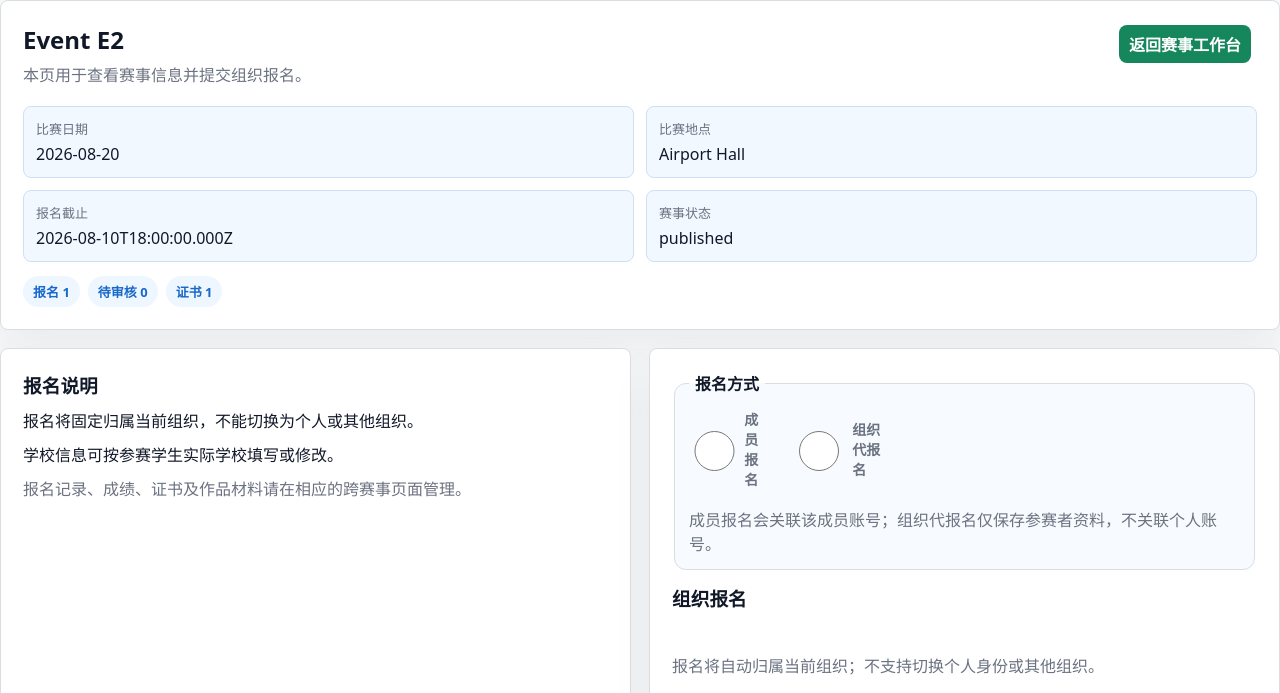
Test: OrganizationEventWorkspacePage › explains the national-standard validation failure and preserves its stable error code
Step 1. Click the radio button labelled "组织代报名" → (819, 450), box top-left (795, 430), bottom-right (843, 470)
(page scrolled)
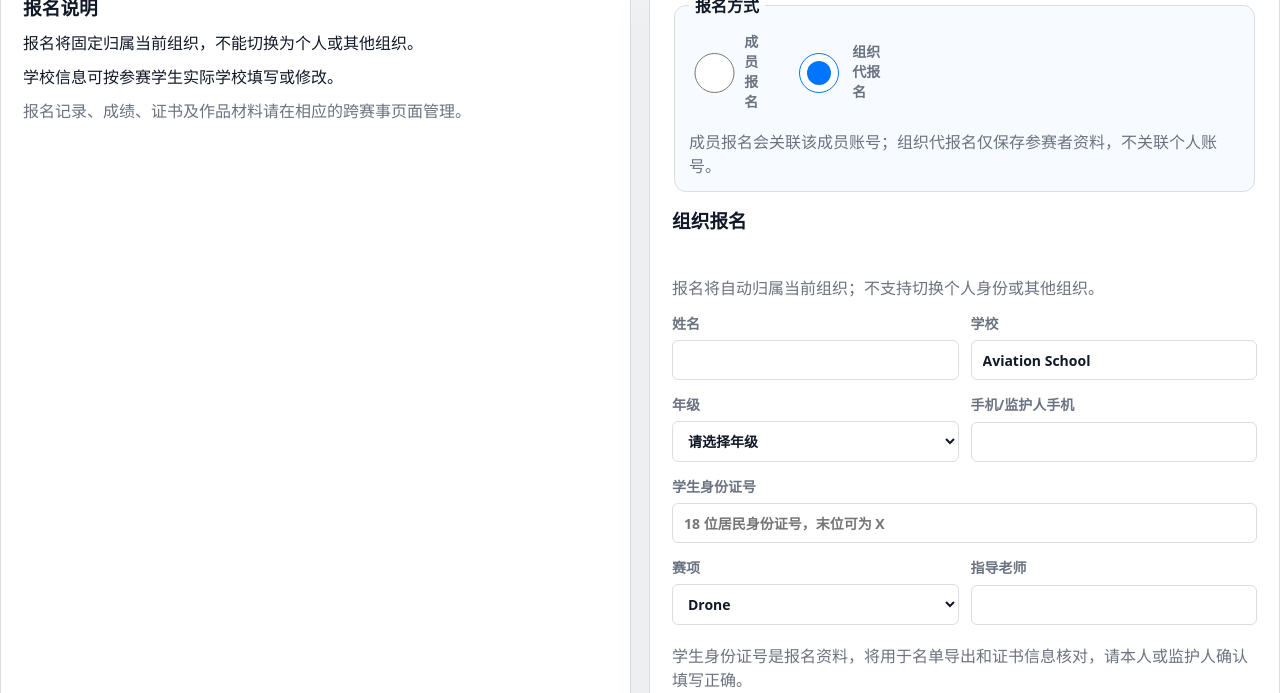
Step 2. Type "Student A" into the field labelled "姓名" → (815, 360), box top-left (672, 340), bottom-right (958, 380)
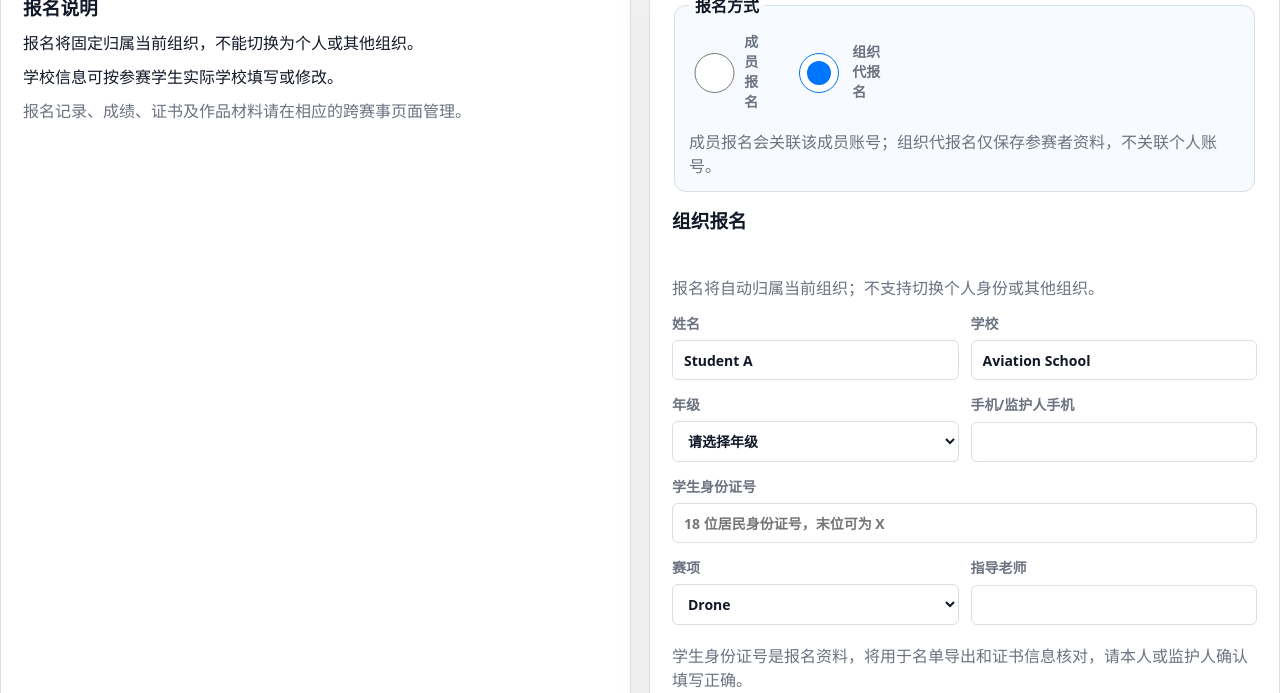
Step 3. Select "Grade 5" in the dropdown labelled "年级" → (815, 442), box top-left (672, 421), bottom-right (958, 462)
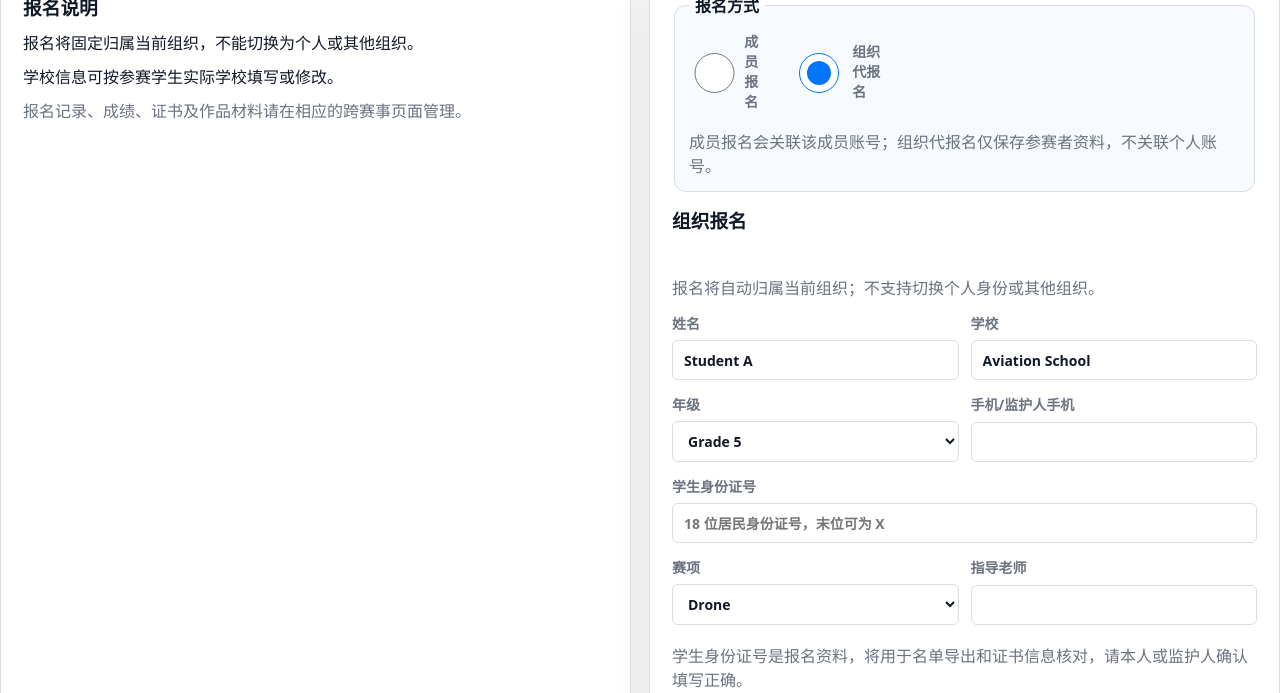
Step 4. Type "13800000000" into the field labelled "手机/监护人手机" → (1114, 442), box top-left (970, 422), bottom-right (1257, 462)
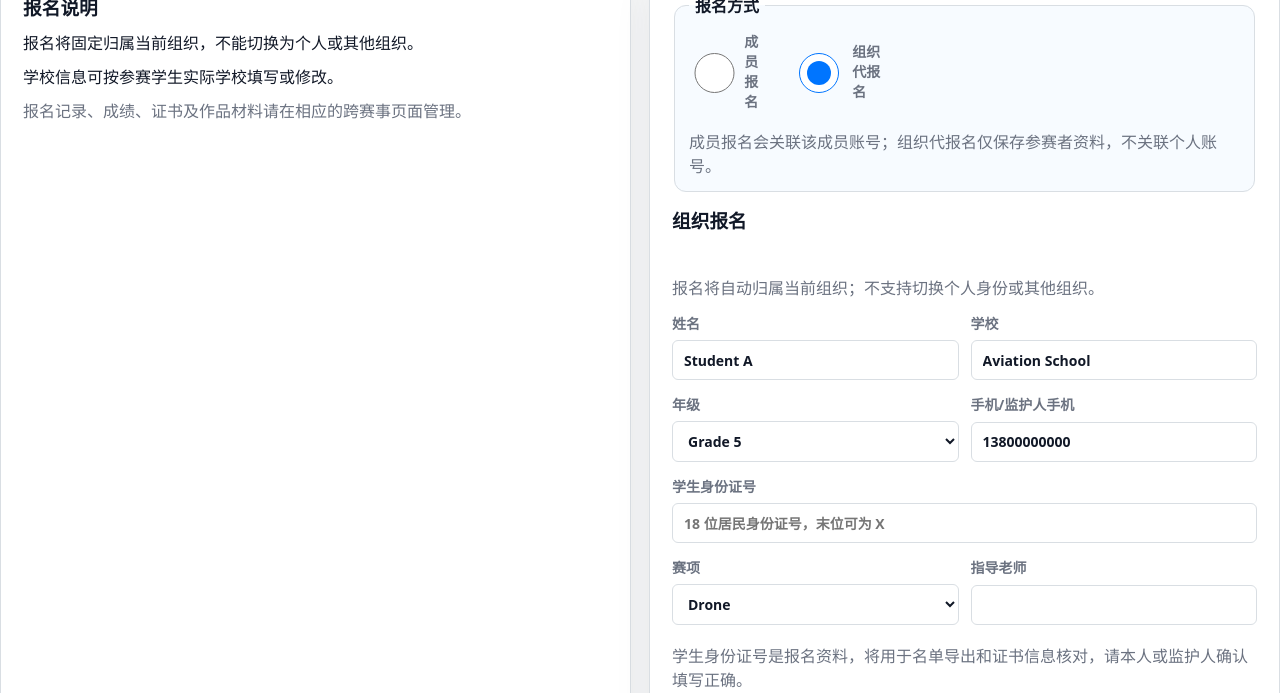
Step 5. Type "330304198811232711" into the field labelled "学生身份证号" → (964, 523), box top-left (672, 503), bottom-right (1257, 543)
(page scrolled)
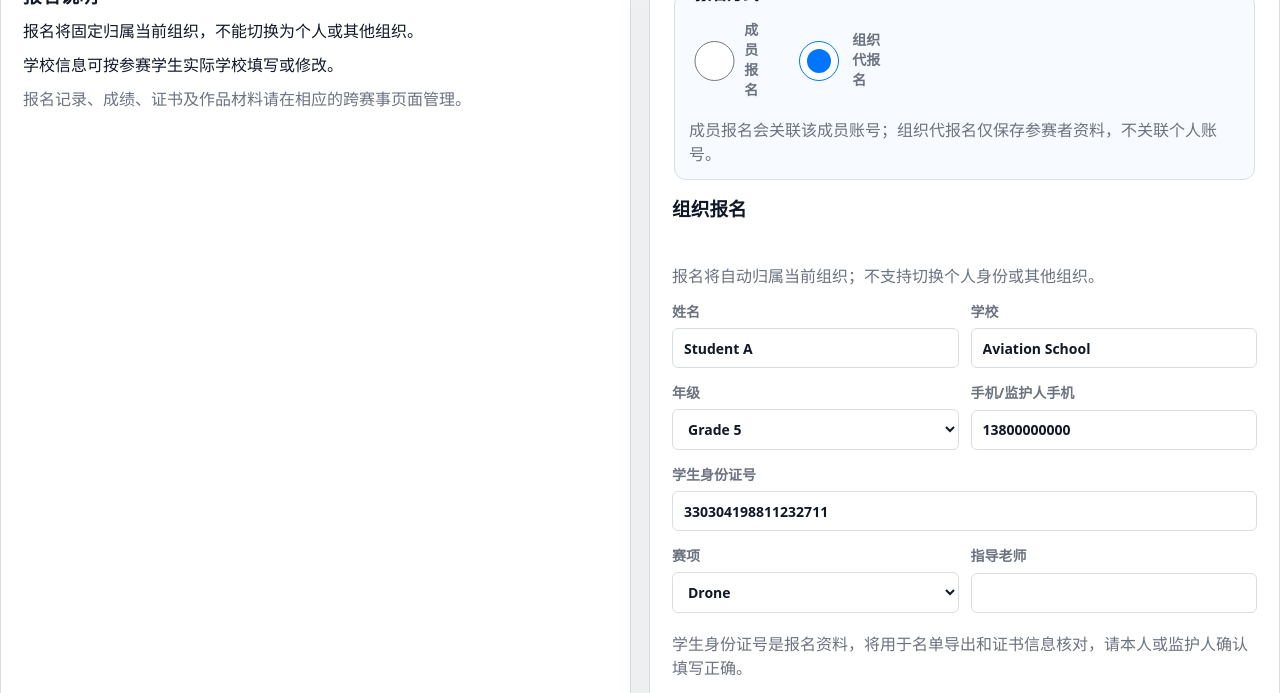
Step 6. Submit the form with test id "organization-registration-form"
(page scrolled)
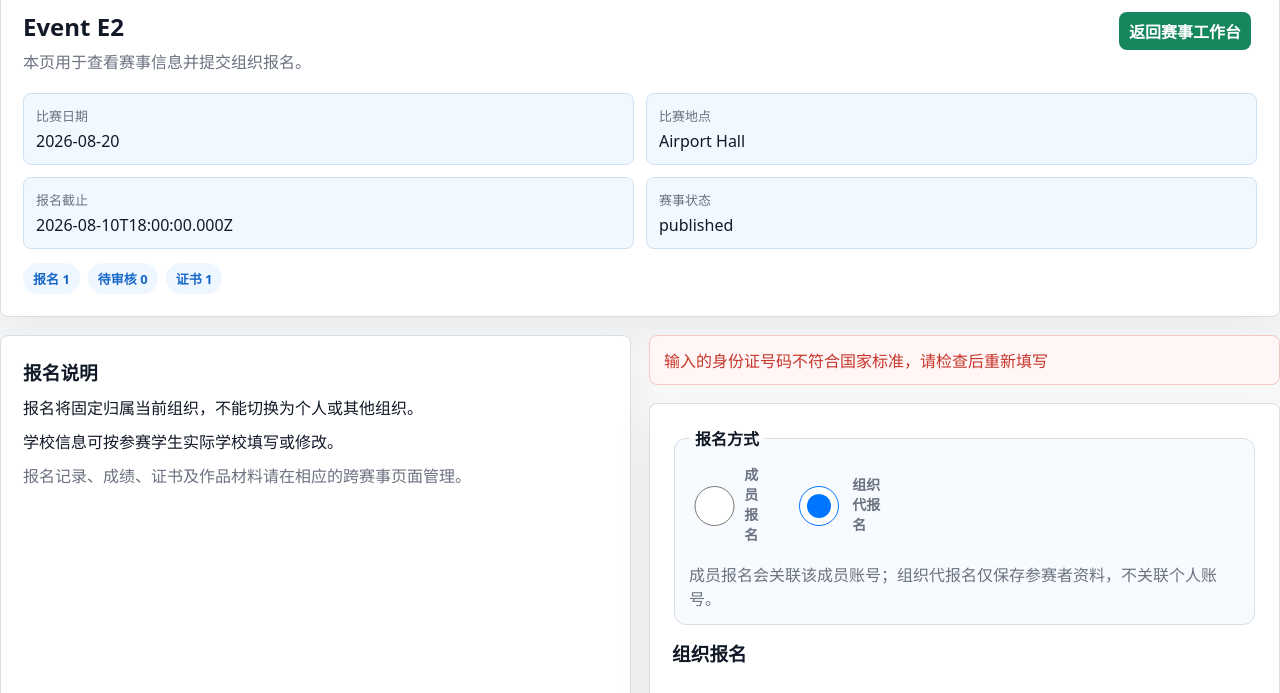
Expected: the message with test id "organization-registration-feedback" reads "输入的身份证号码不符合国家标准，请检查后重新填写", top-left (664, 350), bottom-right (1048, 372)
